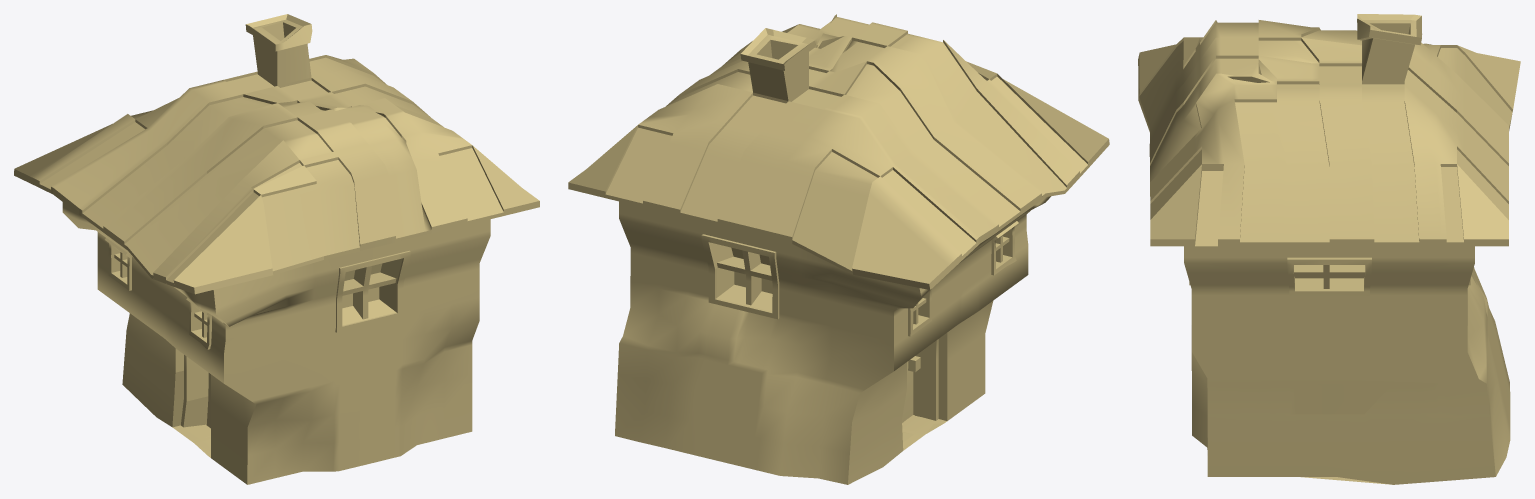
File: Hus3.fbx
3 renders of one model, left to right at view 1: azimuth 30°, elevation 25°; view 2: azimuth 150°, elevation 25°; view 3: azimuth 270°, elevation 25°, orthographic. The views are drawn at different scales.
Parts seen in each view (by area): view 1: pCube2; view 2: pCube2; view 3: pCube2.
Boxes of the visible parts, x1,y1,x2,y2 form: pCube2: [14, 14, 539, 484]; pCube2: [568, 14, 1109, 484]; pCube2: [1138, 14, 1520, 484].
Bounding box in the file's own units: 882 × 901 × 755.
